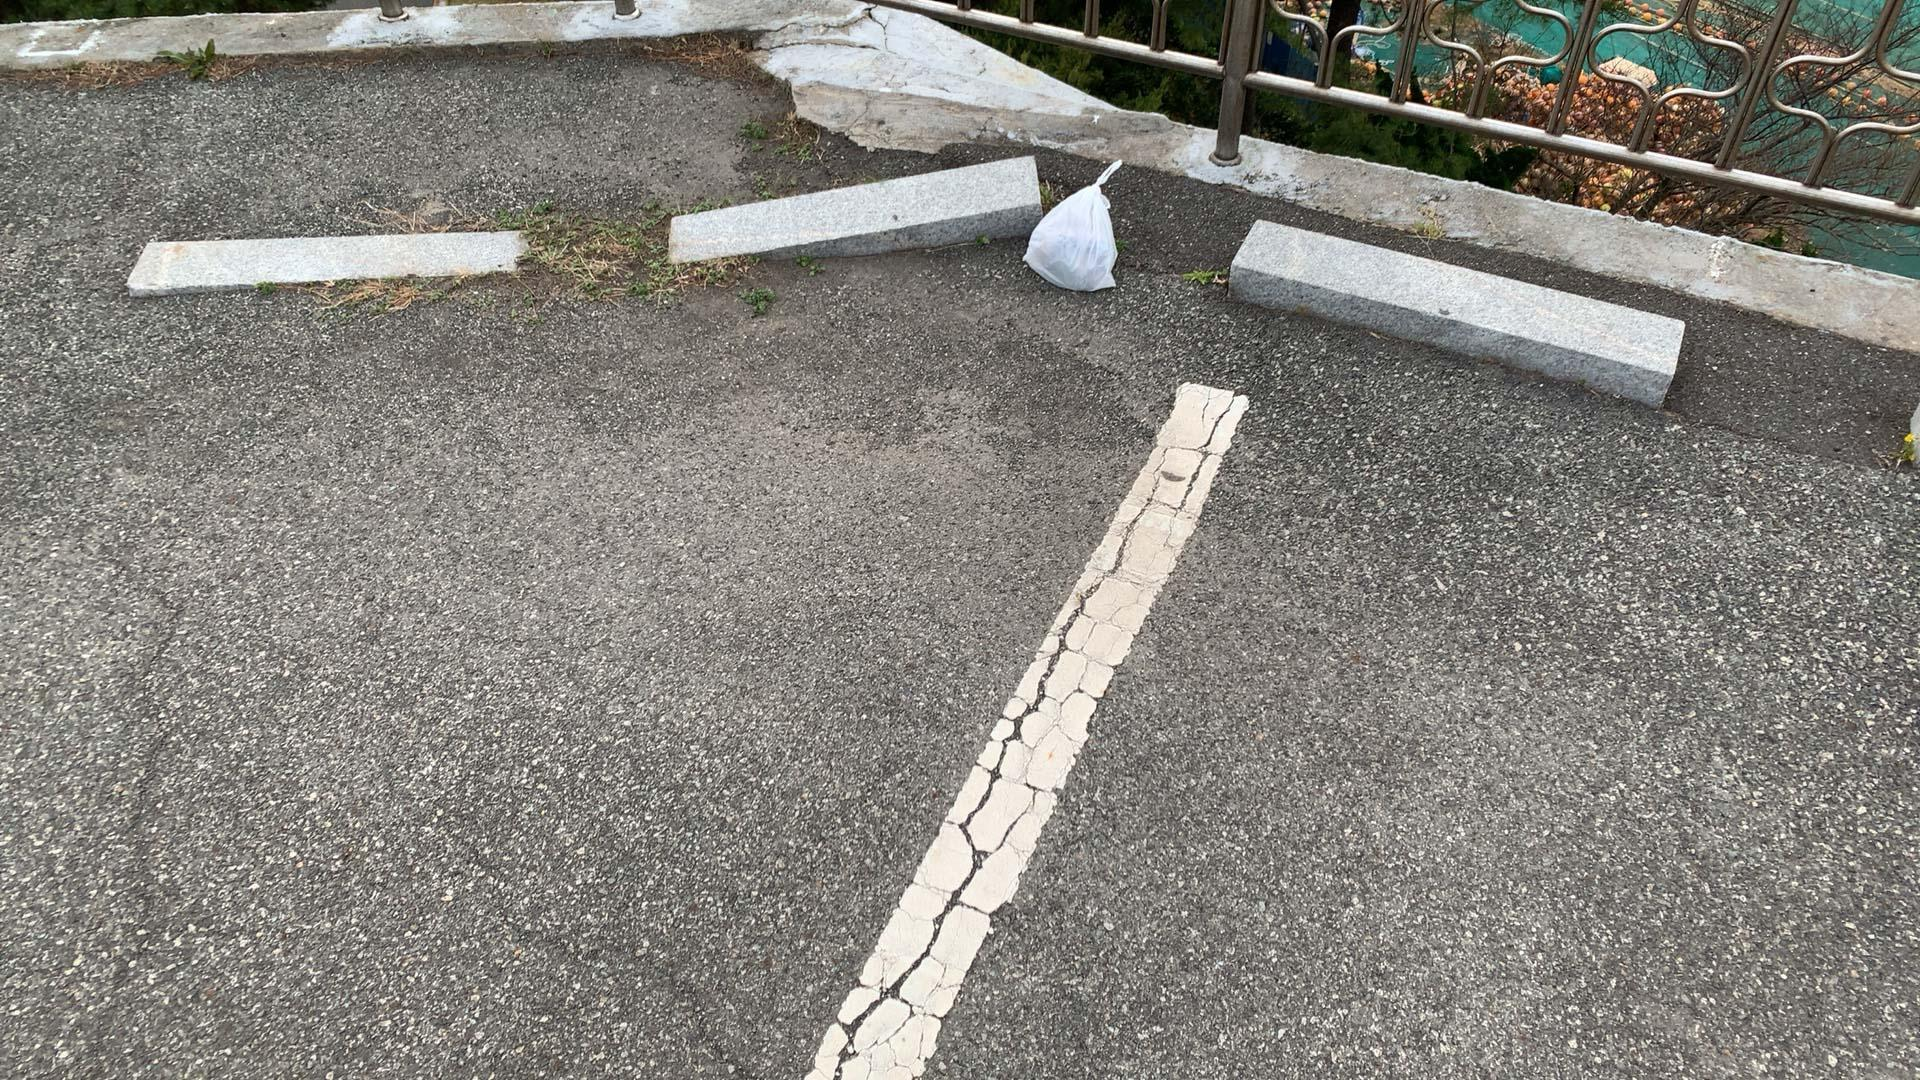white_bag: (1013, 146, 1131, 299)
